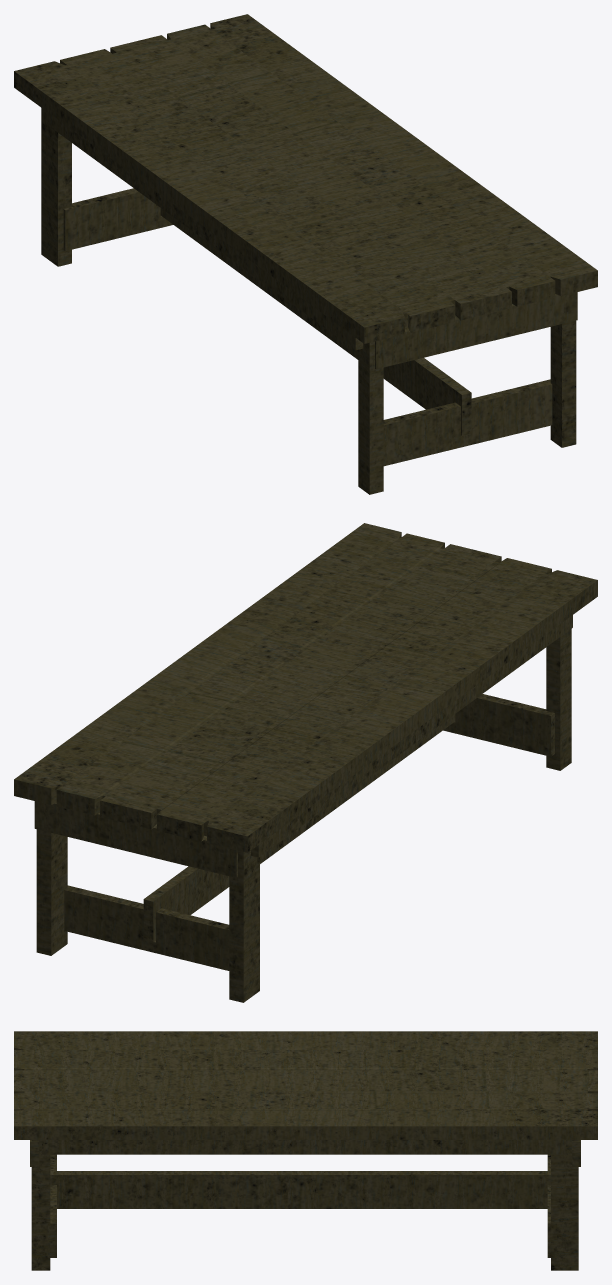
File: MesaFinal.fbx
3 renders of one model, top to bottom at view 1: azimuth 30°, elevation 25°; view 2: azimuth 150°, elevation 25°; view 3: azimuth 270°, elevation 25°, orthographic. The views are drawn at different scales.
Visible parts, largest first — view 1: pCube9; view 2: pCube9; view 3: pCube9.
Part boxes in pixels (x1=…): pCube9: x1=14, y1=14, x2=597, y2=494; pCube9: x1=14, y1=523, x2=597, y2=1002; pCube9: x1=14, y1=1031, x2=597, y2=1270.
Bounding box in the file's own units: 2.11 × 1.54 × 5.48.
Materials: 1 (1 with a texture image).
